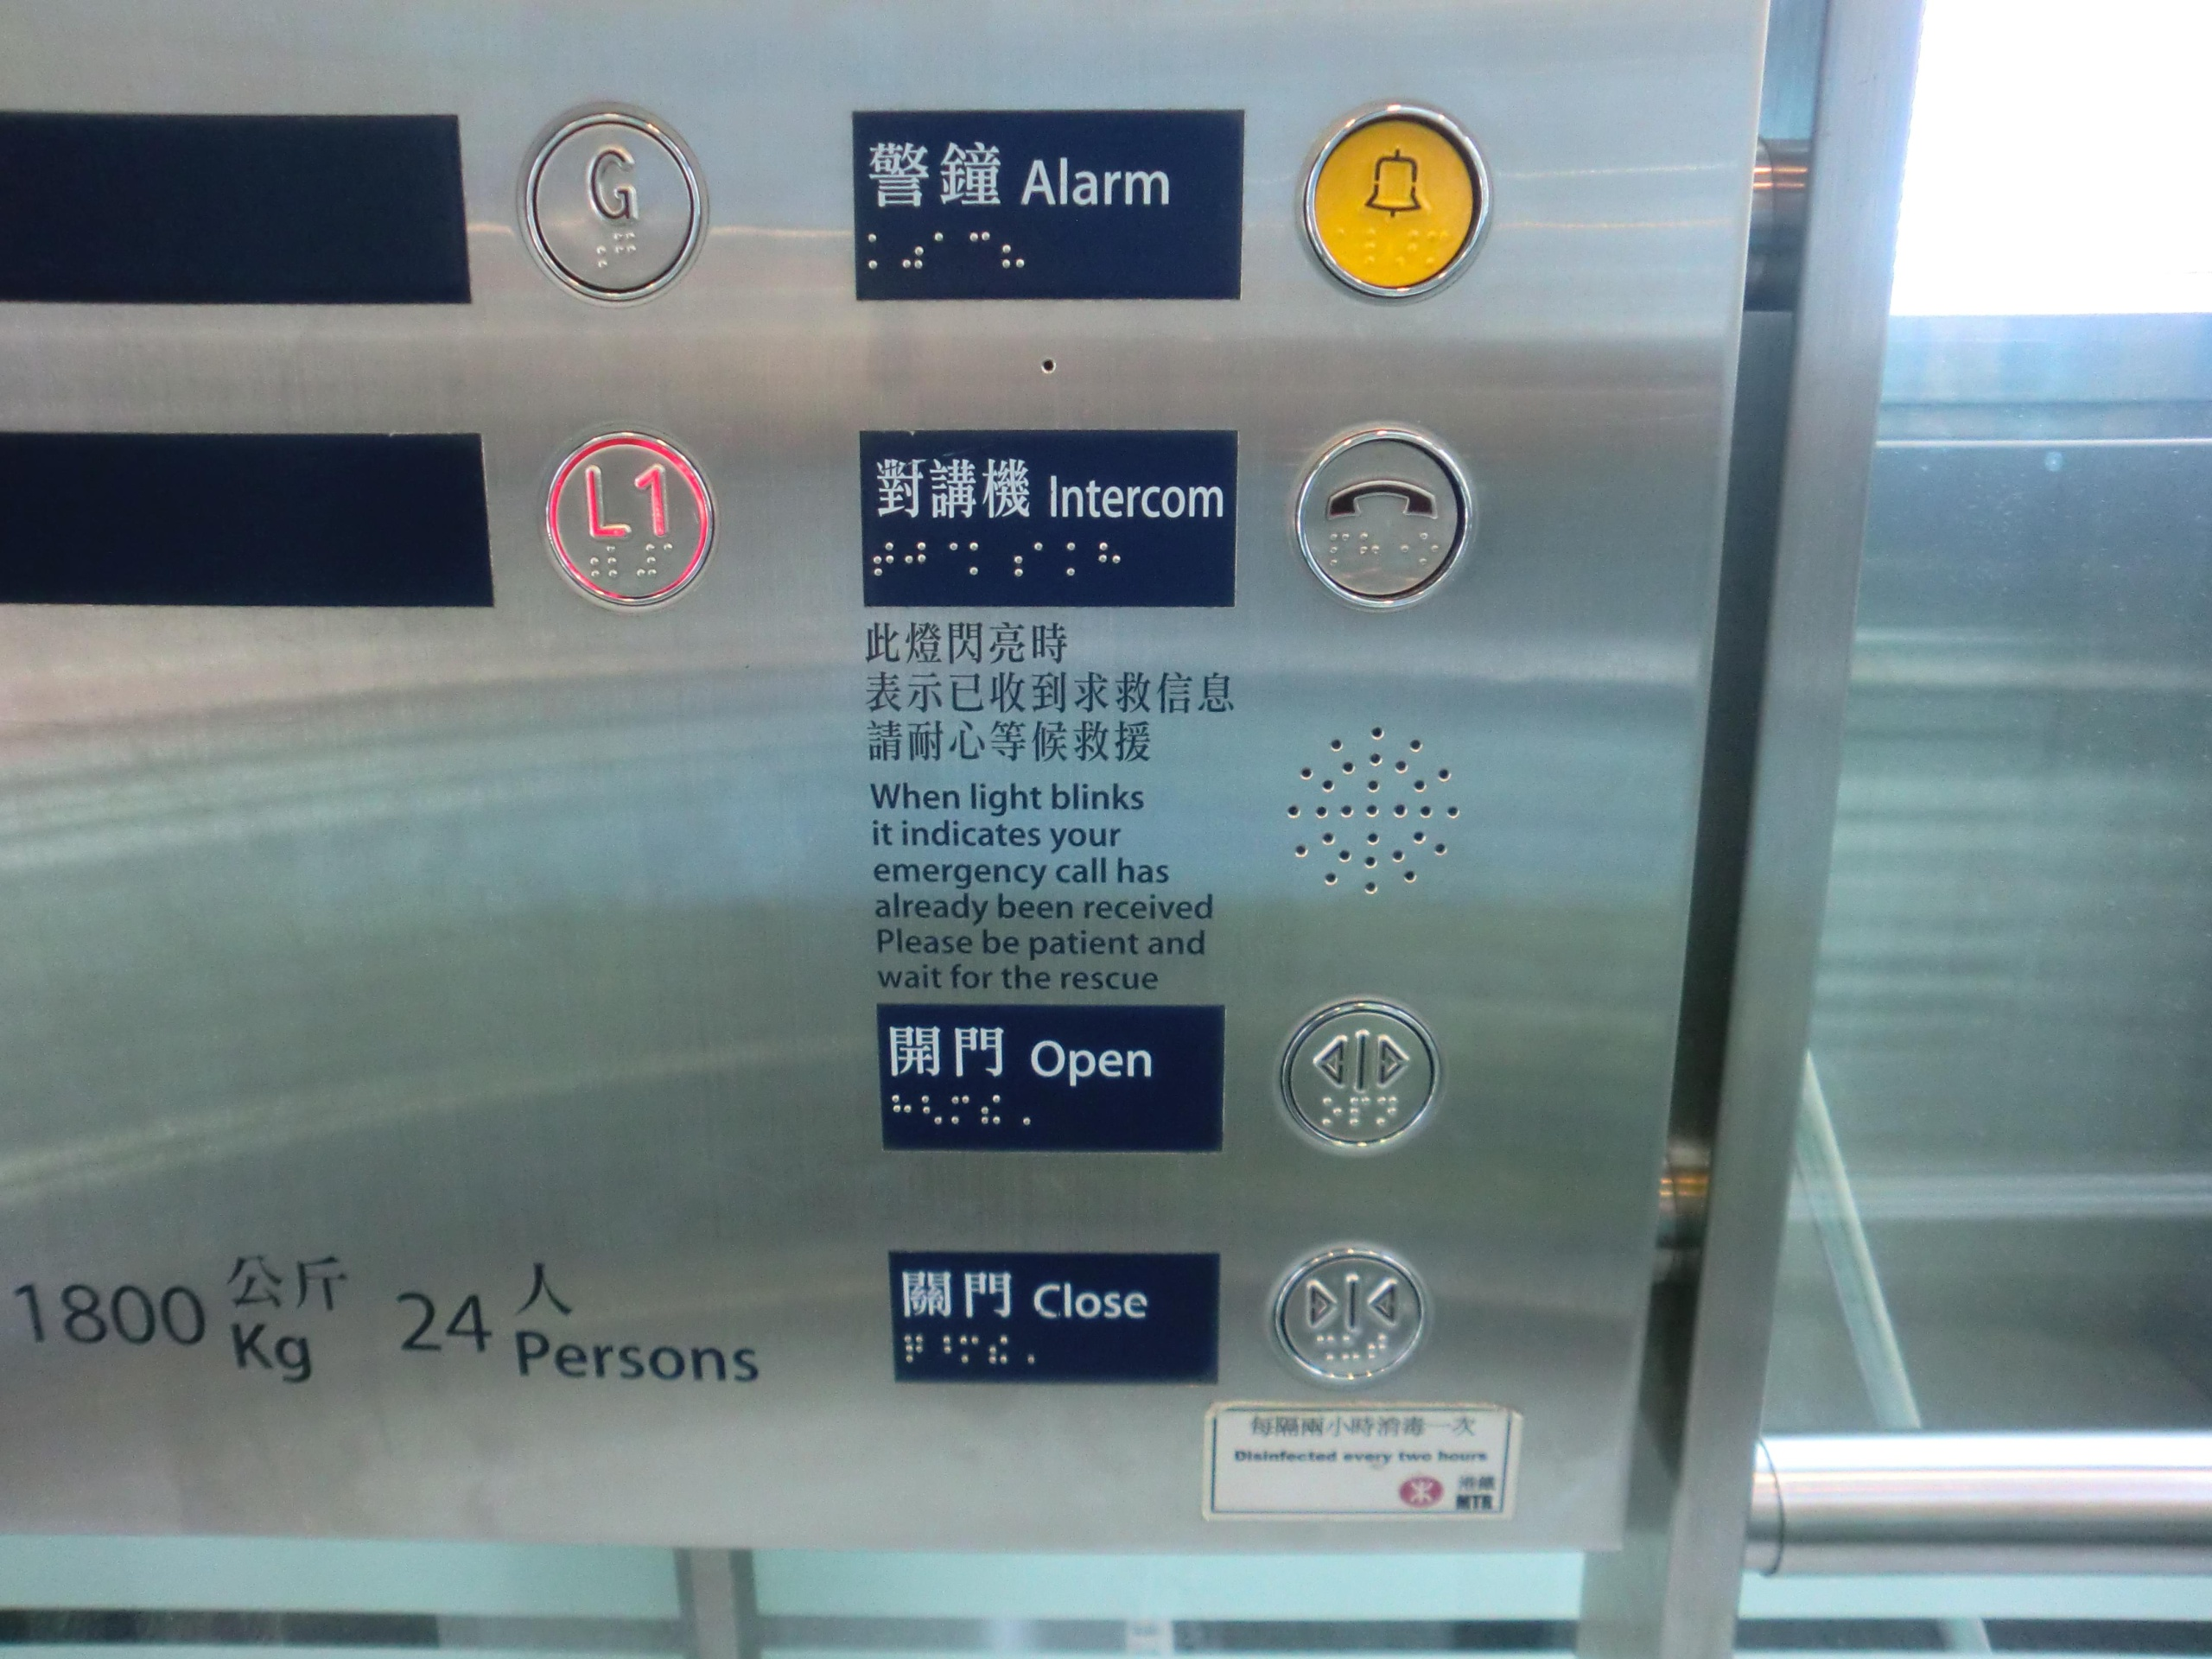G: (516, 99, 711, 303)
L1: (529, 415, 725, 620)
alarm: (1294, 98, 1498, 308)
call: (1285, 413, 1477, 615)
close: (1261, 1234, 1435, 1396)
open: (1268, 986, 1449, 1164)
